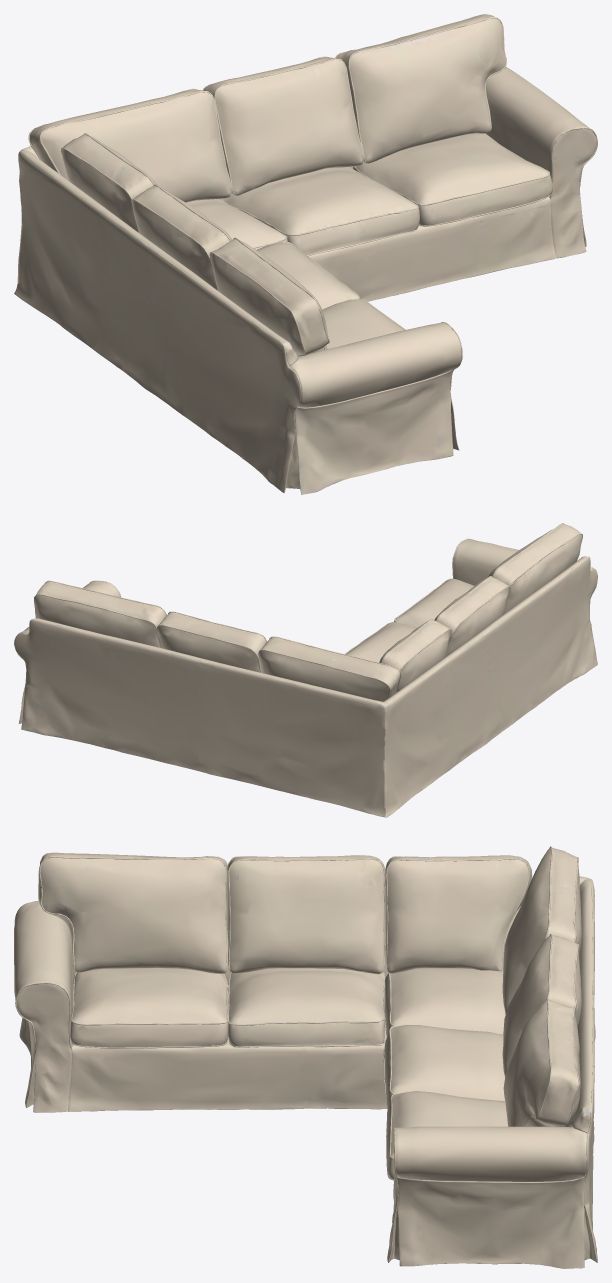
3 renders of one model, top to bottom at view 1: azimuth 30°, elevation 25°; view 2: azimuth 150°, elevation 25°; view 3: azimuth 270°, elevation 25°, orthographic. The views are drawn at different scales.
Visible parts, largest first — view 1: 69508992_corner_sofa_4_seat:1:1; view 2: 69508992_corner_sofa_4_seat:1:1; view 3: 69508992_corner_sofa_4_seat:1:1.
Boxes of the visible parts, box(x1,y1,x2,y2) form: 69508992_corner_sofa_4_seat:1:1: box(14, 14, 597, 494); 69508992_corner_sofa_4_seat:1:1: box(14, 523, 597, 817); 69508992_corner_sofa_4_seat:1:1: box(14, 846, 597, 1268).
Size of the model in its own units: 2.52 by 0.8987 by 2.52.
Materials: 1 (1 with a texture image).
